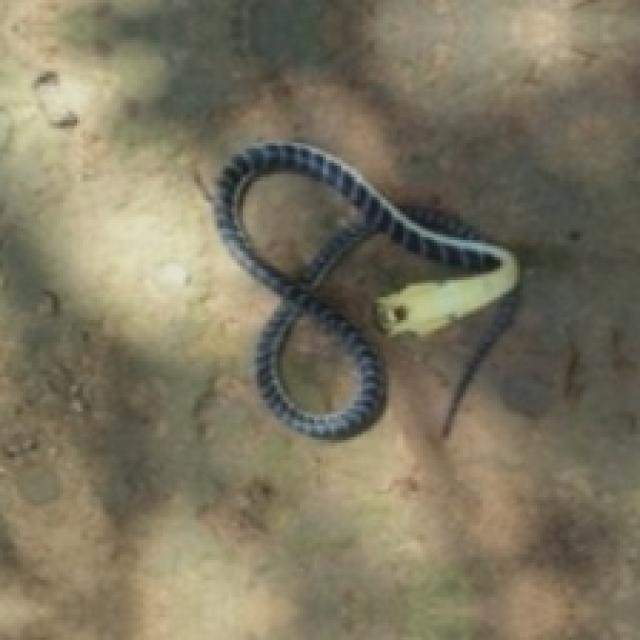king cobra: (214, 140, 517, 437), (240, 169, 363, 283), (277, 311, 357, 411)
